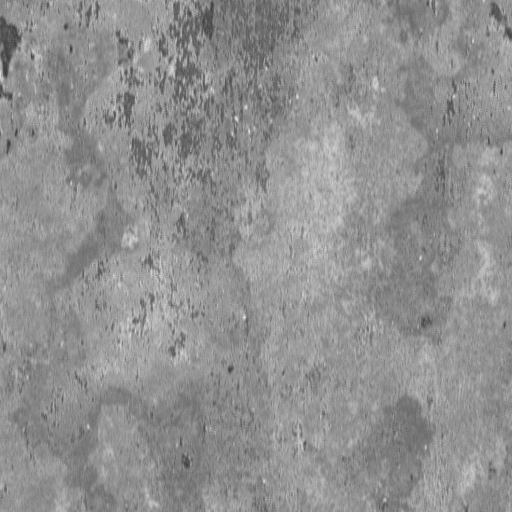xingxingliewen: (1, 13, 23, 102)
